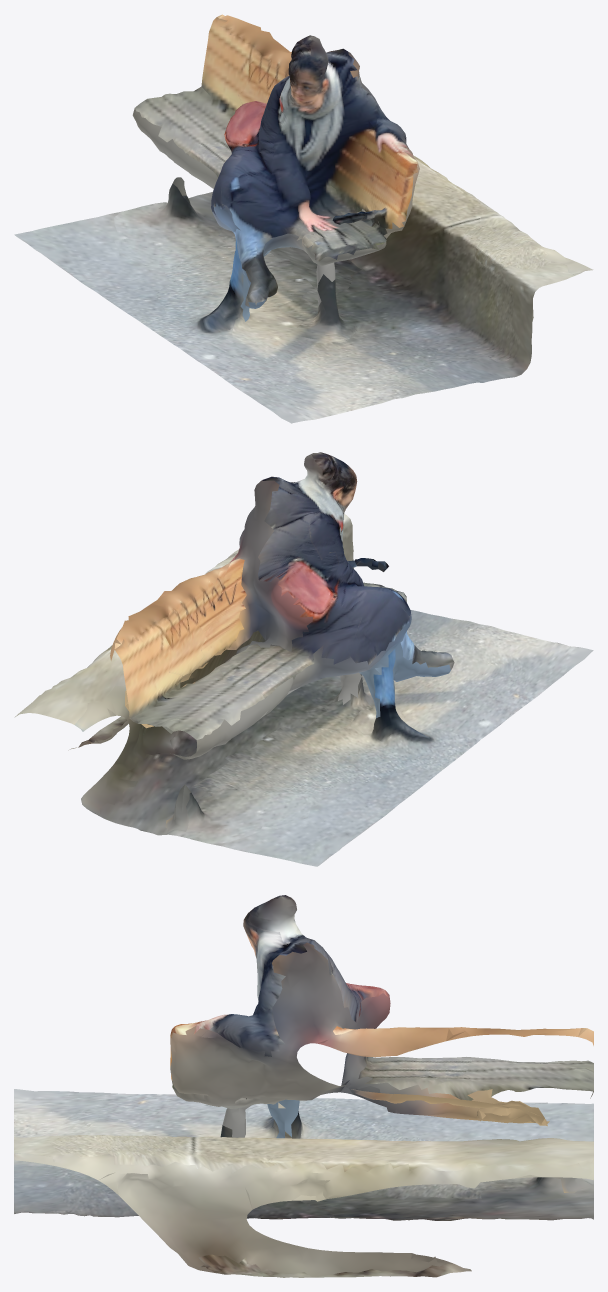
The model's file is S004_RepairedBench.glb.
The picture shows the model from 3 angles, top to bottom: view 1: azimuth 30°, elevation 25°; view 2: azimuth 150°, elevation 25°; view 3: azimuth 270°, elevation 25°; orthographic projection. The views are drawn at different scales.
Visible parts, largest first — view 1: Object_4; view 2: Object_4; view 3: Object_4.
Part boxes in pixels (box(x1,y1,x2,y2)): Object_4: box(14, 14, 593, 423); Object_4: box(14, 452, 593, 866); Object_4: box(14, 895, 593, 1277).
Bounding box in the file's own units: 1.58 × 1.35 × 2.41.
1 material, 1 textured.
